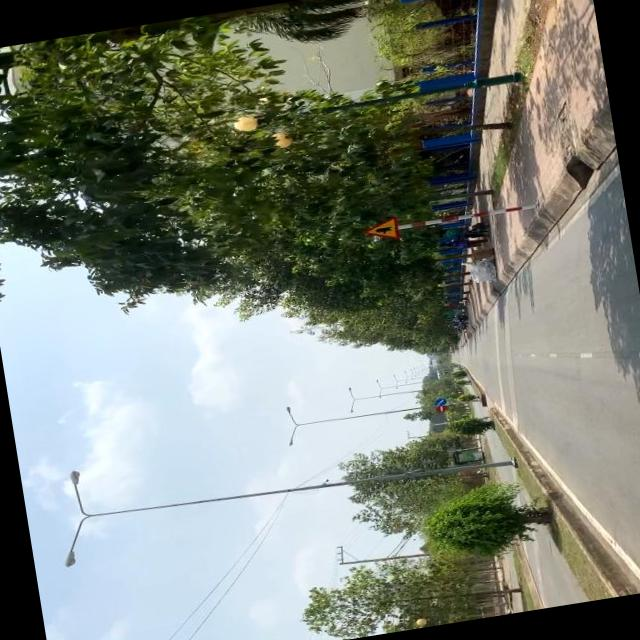P-102: (433, 404, 449, 412)
R-302a: (432, 398, 447, 406)
W-207c: (360, 213, 406, 244)
